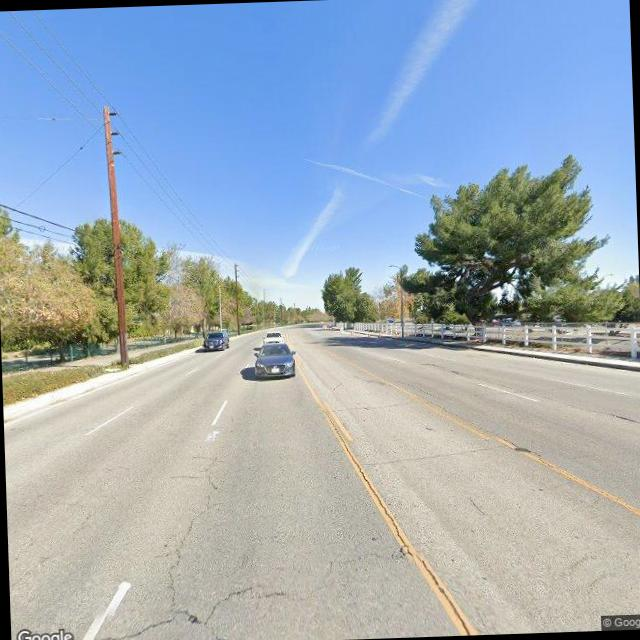crack: (85, 449, 272, 640), (324, 407, 460, 636), (156, 450, 224, 610), (360, 440, 502, 468), (464, 492, 486, 515)
